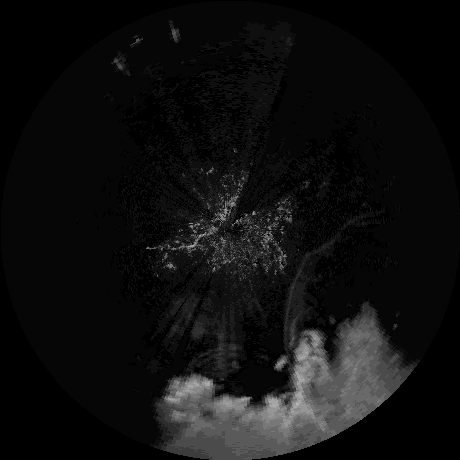frontgust: (281, 257, 304, 341)
